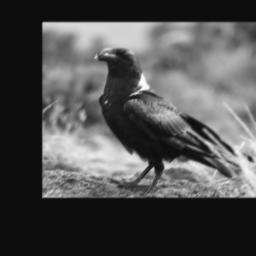Crow: (90, 45, 241, 196)
